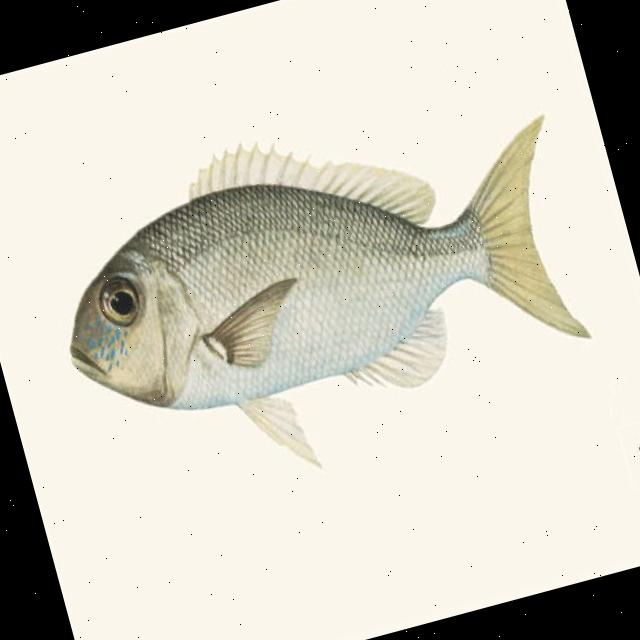ikan: (26, 62, 617, 523)
